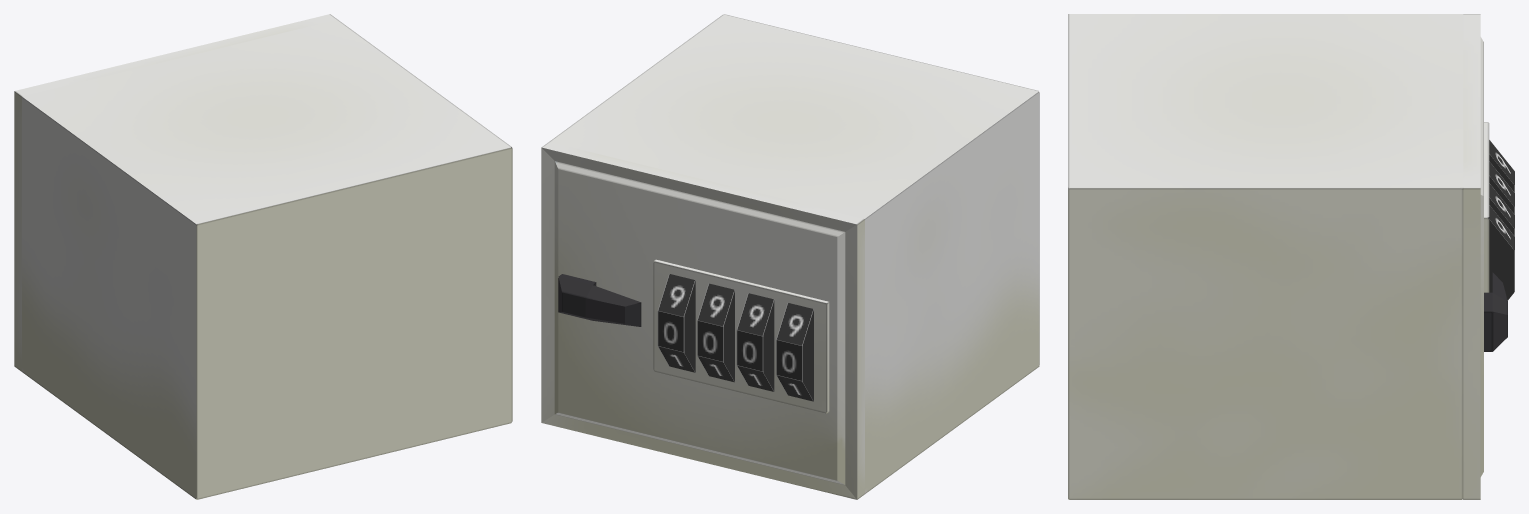
The model's file is SafeBox.fbx.
3 renders of one model, left to right at view 1: azimuth 30°, elevation 25°; view 2: azimuth 150°, elevation 25°; view 3: azimuth 270°, elevation 25°, orthographic. The views are drawn at different scales.
Parts seen in each view (by area): view 1: badanBerangkas, pintuBerangkas; view 2: badanBerangkas, pintuBerangkas, pin4, pin1, pin2, pin3, gagangBrangkas; view 3: badanBerangkas, pintuBerangkas, pin1, gagangBrangkas, pin4, pin2, pin3.
Boxes of the visible parts, x1,y1,x2,y2 form: badanBerangkas: (22, 19, 512, 499); pintuBerangkas: (14, 14, 337, 371); badanBerangkas: (549, 14, 1039, 493); pintuBerangkas: (541, 142, 864, 499); pin4: (736, 293, 774, 391); pin1: (657, 274, 695, 372); pin2: (697, 283, 734, 382); pin3: (776, 303, 813, 401); gagangBrangkas: (558, 274, 641, 326); badanBerangkas: (1068, 14, 1463, 499); pintuBerangkas: (1462, 14, 1489, 499); pin1: (1487, 205, 1514, 300); gagangBrangkas: (1484, 272, 1507, 351); pin4: (1489, 161, 1514, 214); pin2: (1489, 183, 1514, 236); pin3: (1489, 140, 1514, 192).
Size of the model in its own units: 37.5 by 31.25 by 40.63.
Materials: 2 (2 with a texture image).
